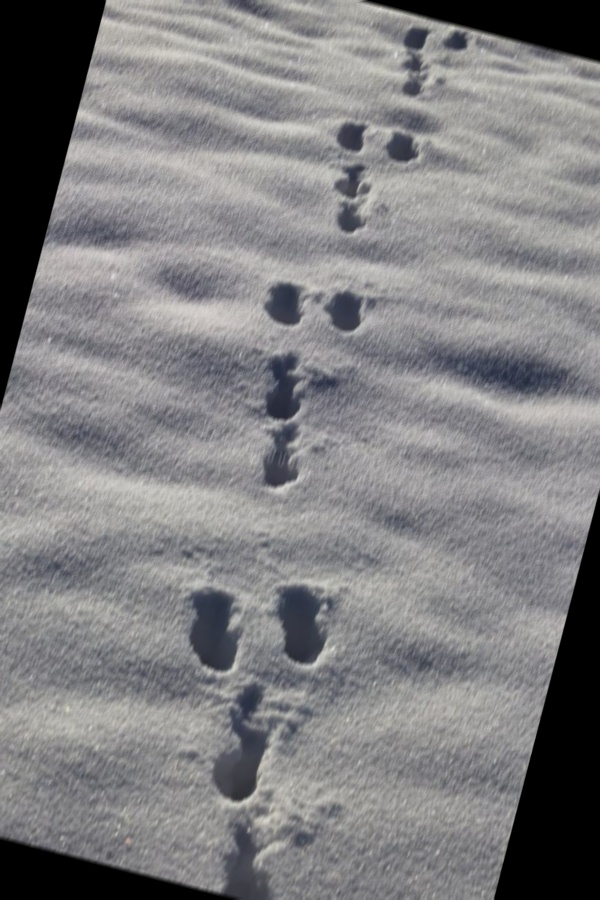rabbit: (85, 521, 397, 834)
